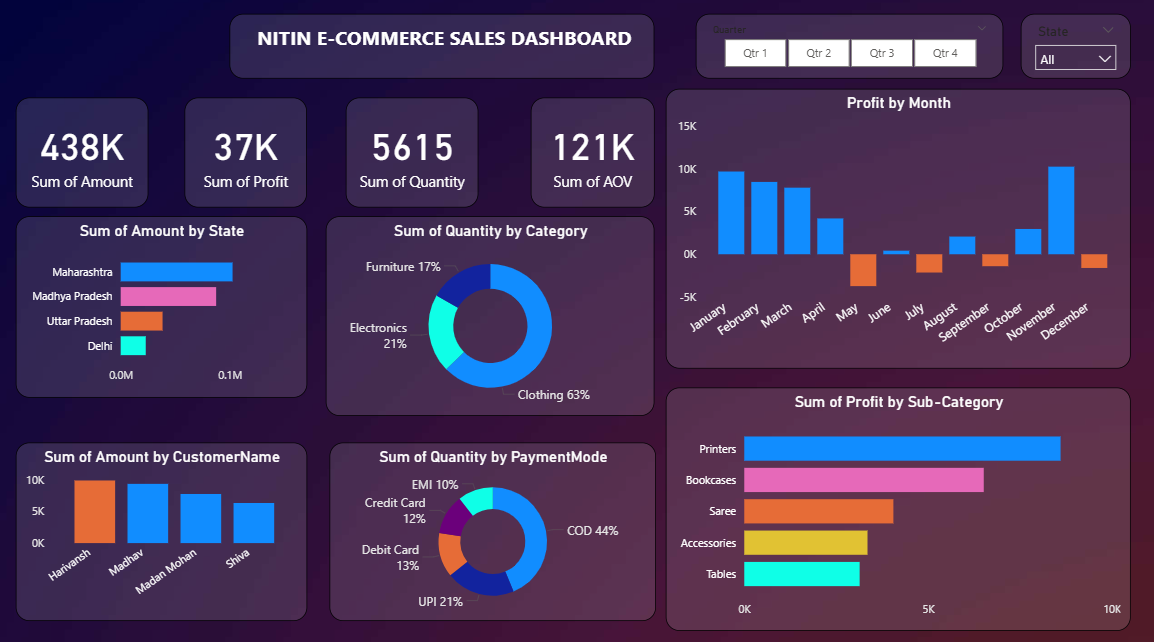

Layout of this report page (visuals, bound fields, positions):
{"tool":"powerbi","page":{"name":"Page 1","canvas":[1280,720],"ordinal":0},"visuals":[{"type":"textbox","box":[260.7,20.6,466.6,71.4],"z":0},{"type":"columnChart","title":" Profit by Month","fields":{"Category":["orders_store.Order Date.Variation.Date Hierarchy.Month"],"Y":["details_store.Profit"]},"box":[739.6,102.9,510.5,307.4],"z":1000},{"type":"barChart","fields":{"Category":["details_store.Sub-Category"],"Y":["details_store.Profit"]},"box":[739.6,430.9,510.5,267.6],"z":2000},{"type":"donutChart","fields":{"Category":["details_store.Category"],"Y":["details_store.Quantity"]},"box":[366.4,242.9,360.9,219.6],"z":3000},{"type":"donutChart","fields":{"Category":["details_store.PaymentMode"],"Y":["details_store.Quantity"]},"box":[370.5,491.3,358.1,196.2],"z":4000},{"type":"card","fields":{"Values":["details_store.Amount"]},"box":[26.1,112.5,145.5,120.8],"z":5000},{"type":"card","fields":{"Values":["details_store.Profit"]},"box":[211.3,112.5,134.5,120.8],"z":6000},{"type":"card","fields":{"Values":["details_store.Quantity"]},"box":[388.3,112.5,145.5,120.8],"z":7000},{"type":"card","fields":{"Values":["details_store.AOV"]},"box":[591.4,112.5,135.8,120.8],"z":8000},{"type":"barChart","fields":{"Category":["orders_store.State"],"Y":["details_store.Amount"]},"box":[26.1,242.9,319.7,199],"z":9000},{"type":"columnChart","fields":{"Category":["orders_store.CustomerName"],"Y":["details_store.Amount"]},"box":[26.1,491.3,319.7,196.2],"z":10000},{"type":"slicer","fields":{"Values":["orders_store.Order Date.Variation.Date Hierarchy.Quarter"]},"box":[772.6,20.6,337.6,71.4],"z":11000},{"type":"slicer","fields":{"Values":["orders_store.State"]},"box":[1129.3,20.6,120.8,71.4],"z":12000}]}

Visuals, with their boxes in screenshot pixels (x1, y1, x2, y2), scaled from the page's 1280x720 canvas onto the 1154x642 screenshot:
textbox: 235,18,656,82
" Profit by Month" columnChart: 667,92,1127,366
barChart - details_store.Sub-Category x details_store.Profit: 667,384,1127,623
donutChart - details_store.Category x details_store.Quantity: 330,217,656,412
donutChart - details_store.PaymentMode x details_store.Quantity: 334,438,657,613
card - details_store.Amount: 24,100,155,208
card - details_store.Profit: 191,100,312,208
card - details_store.Quantity: 350,100,481,208
card - details_store.AOV: 533,100,656,208
barChart - orders_store.State x details_store.Amount: 24,217,312,394
columnChart - orders_store.CustomerName x details_store.Amount: 24,438,312,613
slicer - orders_store.Order Date.Variation.Date Hierarchy.Quarter: 697,18,1001,82
slicer - orders_store.State: 1018,18,1127,82
